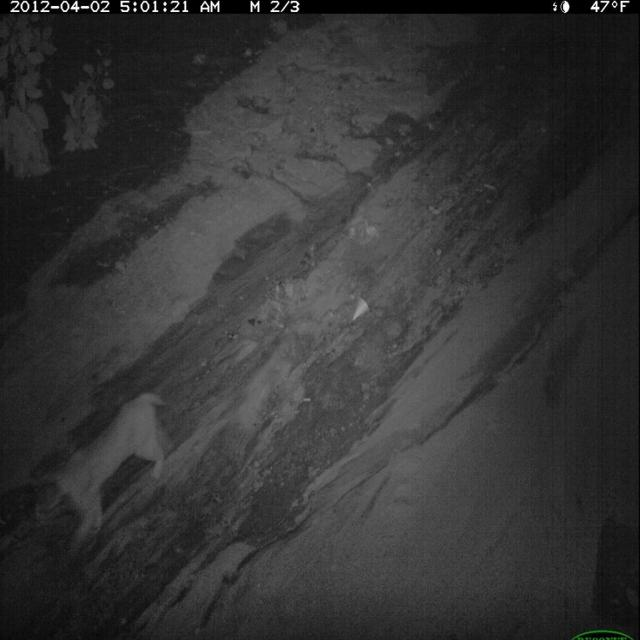bobcat: (26, 385, 175, 566)
